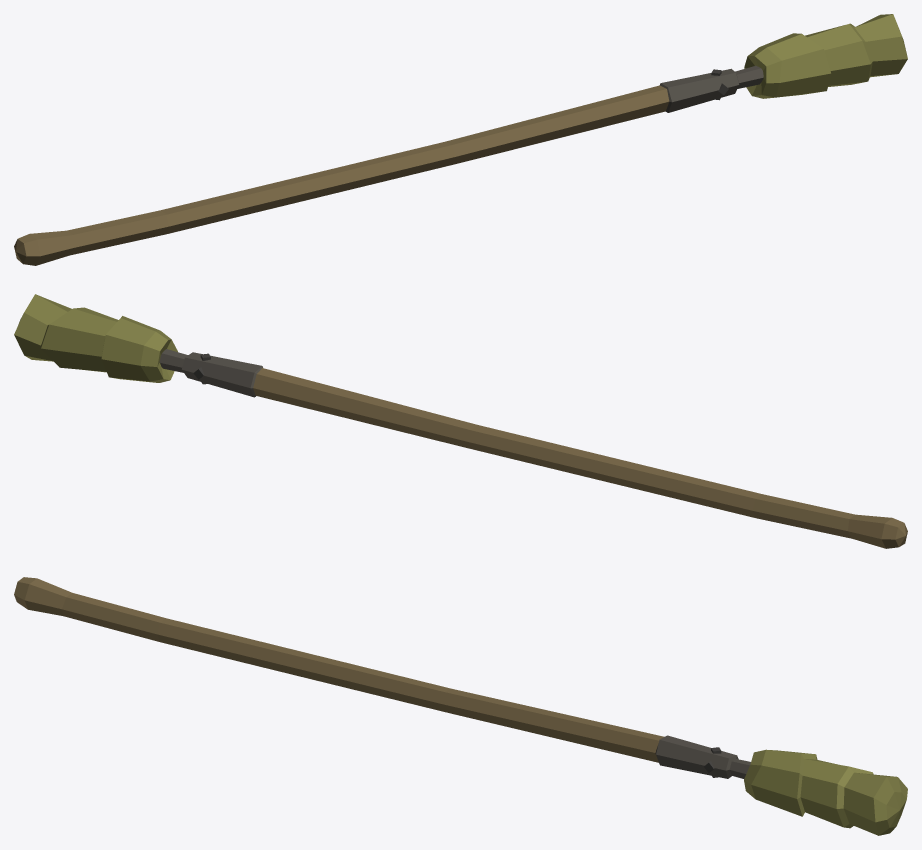
File: CannonPile.fbx
3 renders of one model, top to bottom at view 1: azimuth 30°, elevation 25°; view 2: azimuth 150°, elevation 25°; view 3: azimuth 330°, elevation 25°, orthographic.
Visible parts, largest first — view 1: CannonPile; view 2: CannonPile; view 3: CannonPile.
Part boxes in pixels (x1=…): CannonPile: x1=14, y1=14, x2=907, y2=265; CannonPile: x1=14, y1=294, x2=907, y2=548; CannonPile: x1=14, y1=577, x2=907, y2=835.
Size of the model in its own units: 178 by 12.19 by 11.81.
